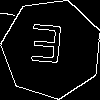E: (27, 24, 65, 73)
